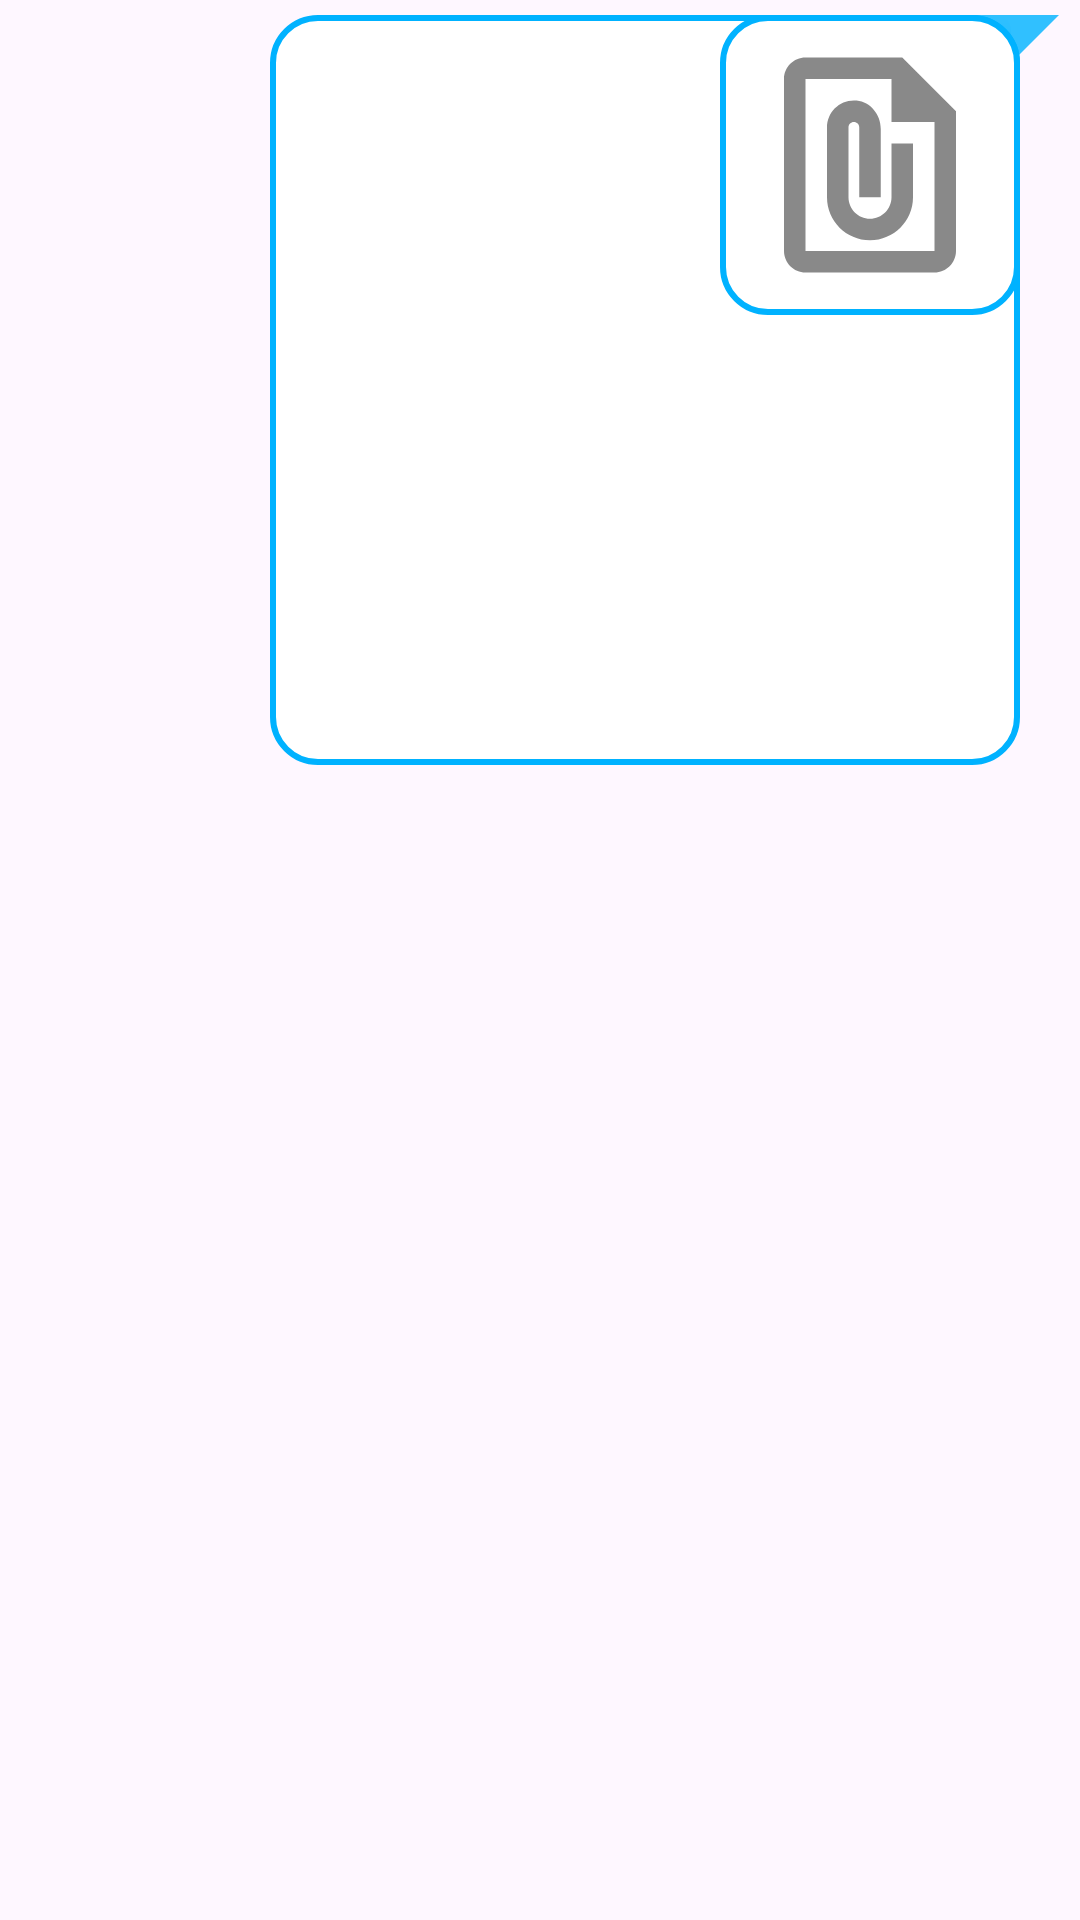

Icon bounding boxes for this 1080x1920 phone screenshot, format (x1, y1, x2, y2):
file: (784, 57, 956, 273)
